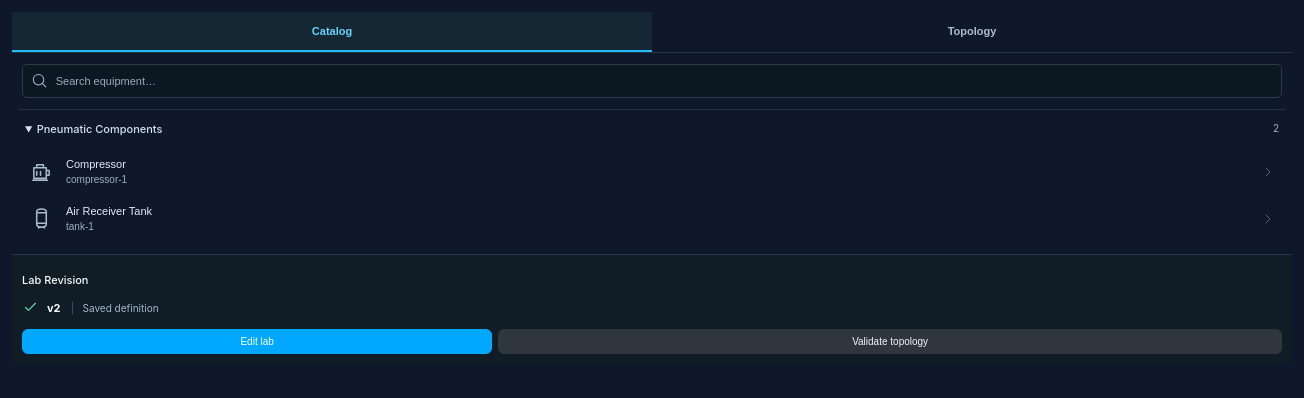
it: EquipmentCatalog › shows validation errors rather than claiming success
Click the button "Validate topology". click: (890, 342)
box: [498,329,1282,354]
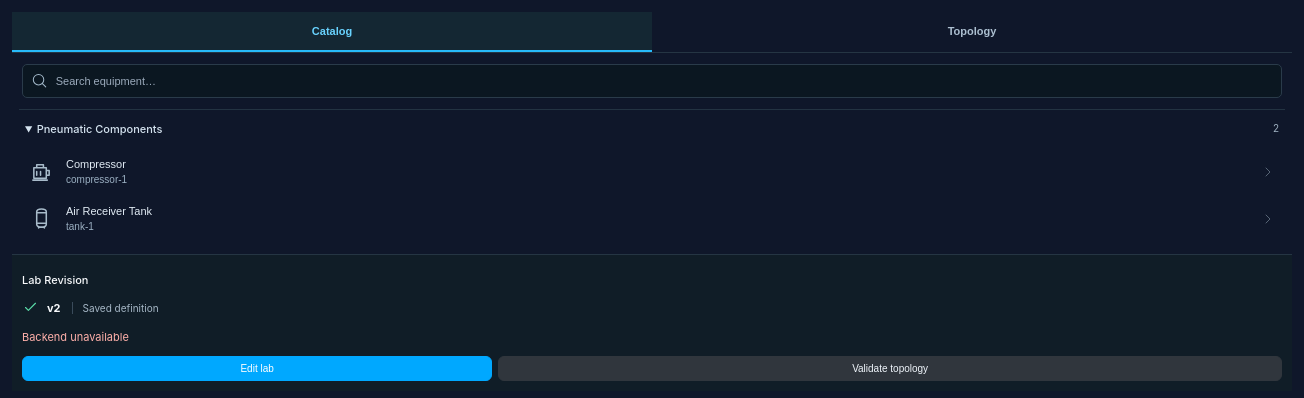
Expected: the message reads "Backend unavailable", [22,330,129,344]
